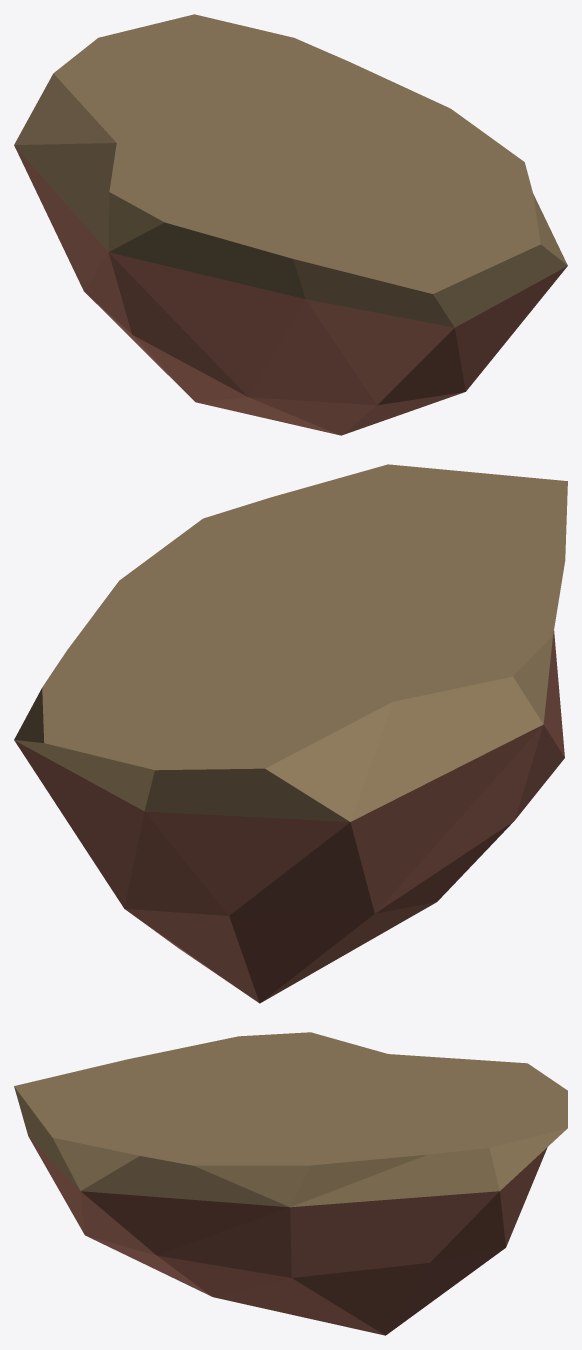
Rendered from 01_02Island_Brown.fbx.
3 views of the same model, one above another, from view 1: azimuth 30°, elevation 25°; view 2: azimuth 150°, elevation 25°; view 3: azimuth 270°, elevation 25° (orthographic). The views are drawn at different scales.
Visible parts, largest first — view 1: Icosphere.022; view 2: Icosphere.022; view 3: Icosphere.022.
Boxes of the visible parts, <box> form: Icosphere.022: <box>14,14,567,435</box>; Icosphere.022: <box>14,464,567,1003</box>; Icosphere.022: <box>14,1032,567,1335</box>.
Size of the model in its own units: 171 by 117 by 281.
